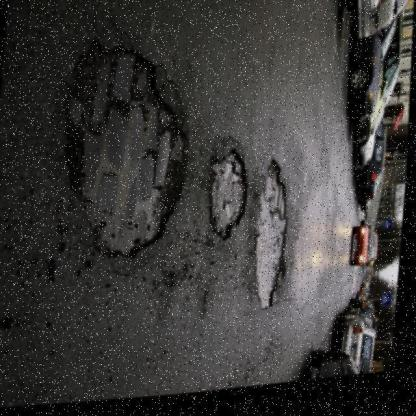pothole: (48, 29, 204, 278), (249, 160, 297, 322), (204, 149, 254, 251)
